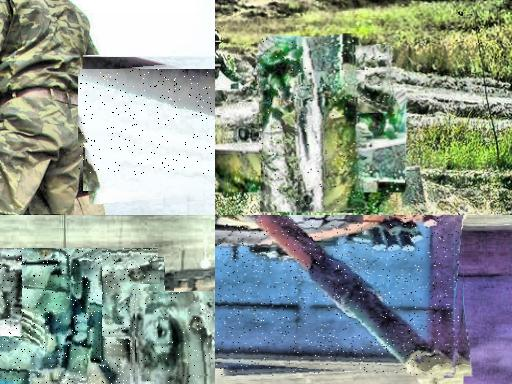tanks: (217, 216, 459, 377), (1, 249, 158, 384), (260, 35, 362, 215), (136, 293, 216, 384), (258, 55, 393, 107), (80, 70, 216, 118)
